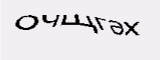А: (47, 22, 68, 45)
З: (98, 24, 109, 46)
И: (112, 20, 132, 43), (28, 24, 44, 44)
Ш: (71, 21, 95, 44)
